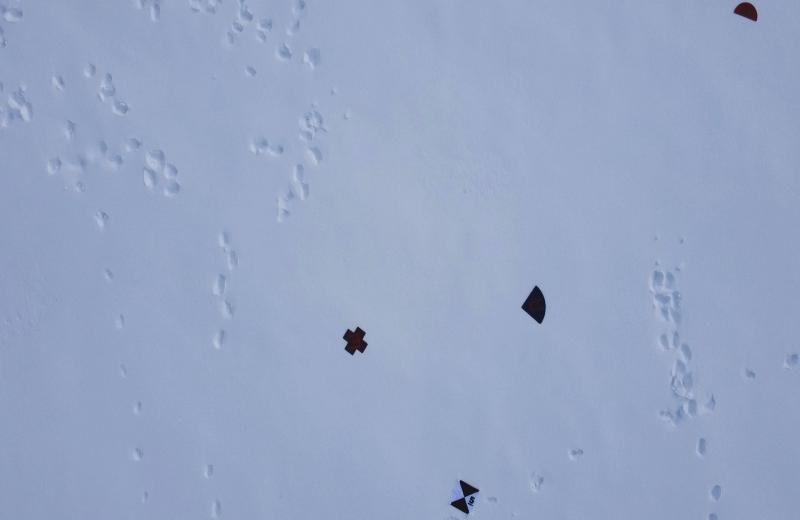Cross: (340, 324, 374, 356)
Quarter Circle: (518, 284, 552, 330)
Semi Circle: (730, 0, 759, 24)
